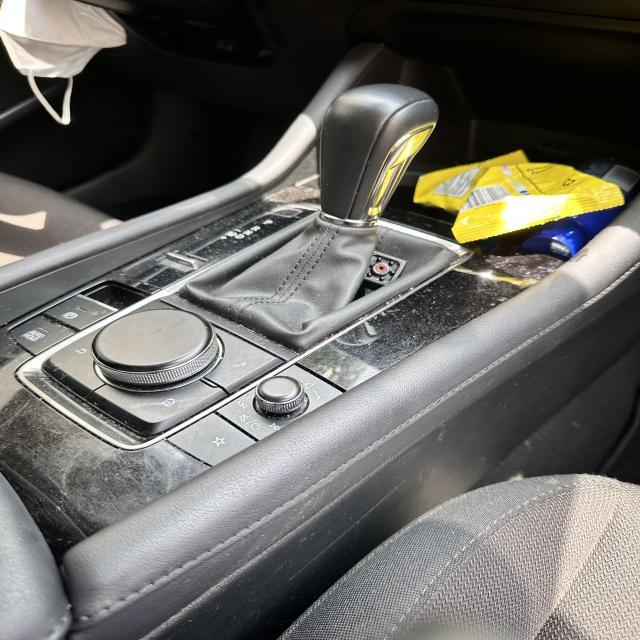hidden camera: (373, 263, 388, 276)
